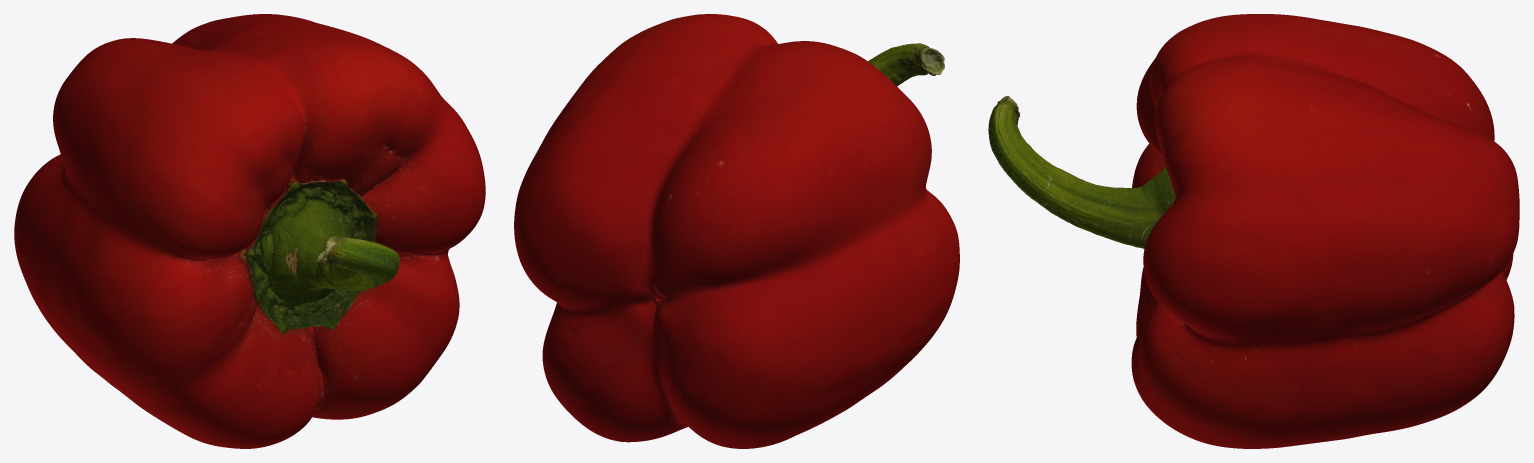
The picture shows the model from 3 angles, left to right: view 1: azimuth 30°, elevation 25°; view 2: azimuth 150°, elevation 25°; view 3: azimuth 270°, elevation 25°; orthographic projection. The views are drawn at different scales.
Visible parts, largest first — view 1: world; view 2: world; view 3: world.
Part boxes in pixels (x1=…): world: x1=14, y1=14, x2=485, y2=448; world: x1=514, y1=14, x2=959, y2=448; world: x1=988, y1=14, x2=1519, y2=448.
Bounding box in the file's own units: 0.035 × 0.0323 × 0.0427.
Materials: 1 (1 with a texture image).
